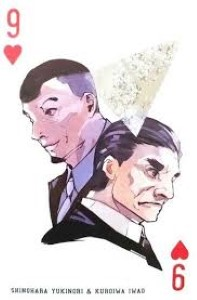NineOfHearts: (2, 5, 191, 295)
